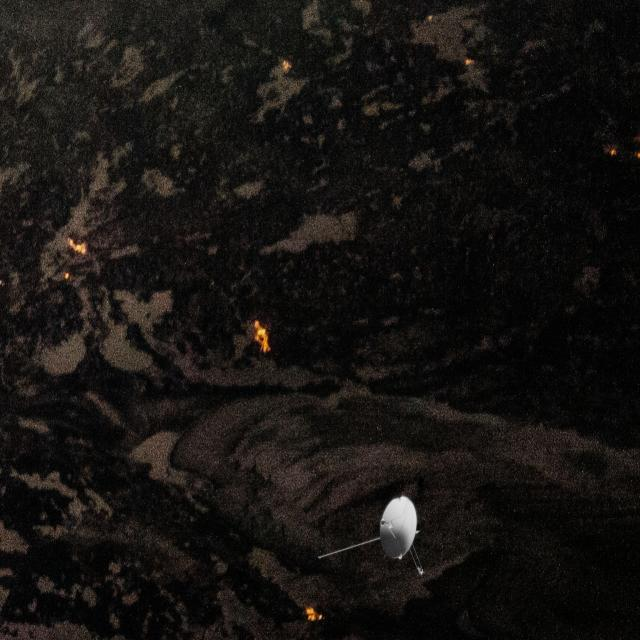satellite: (308, 480, 466, 600)
